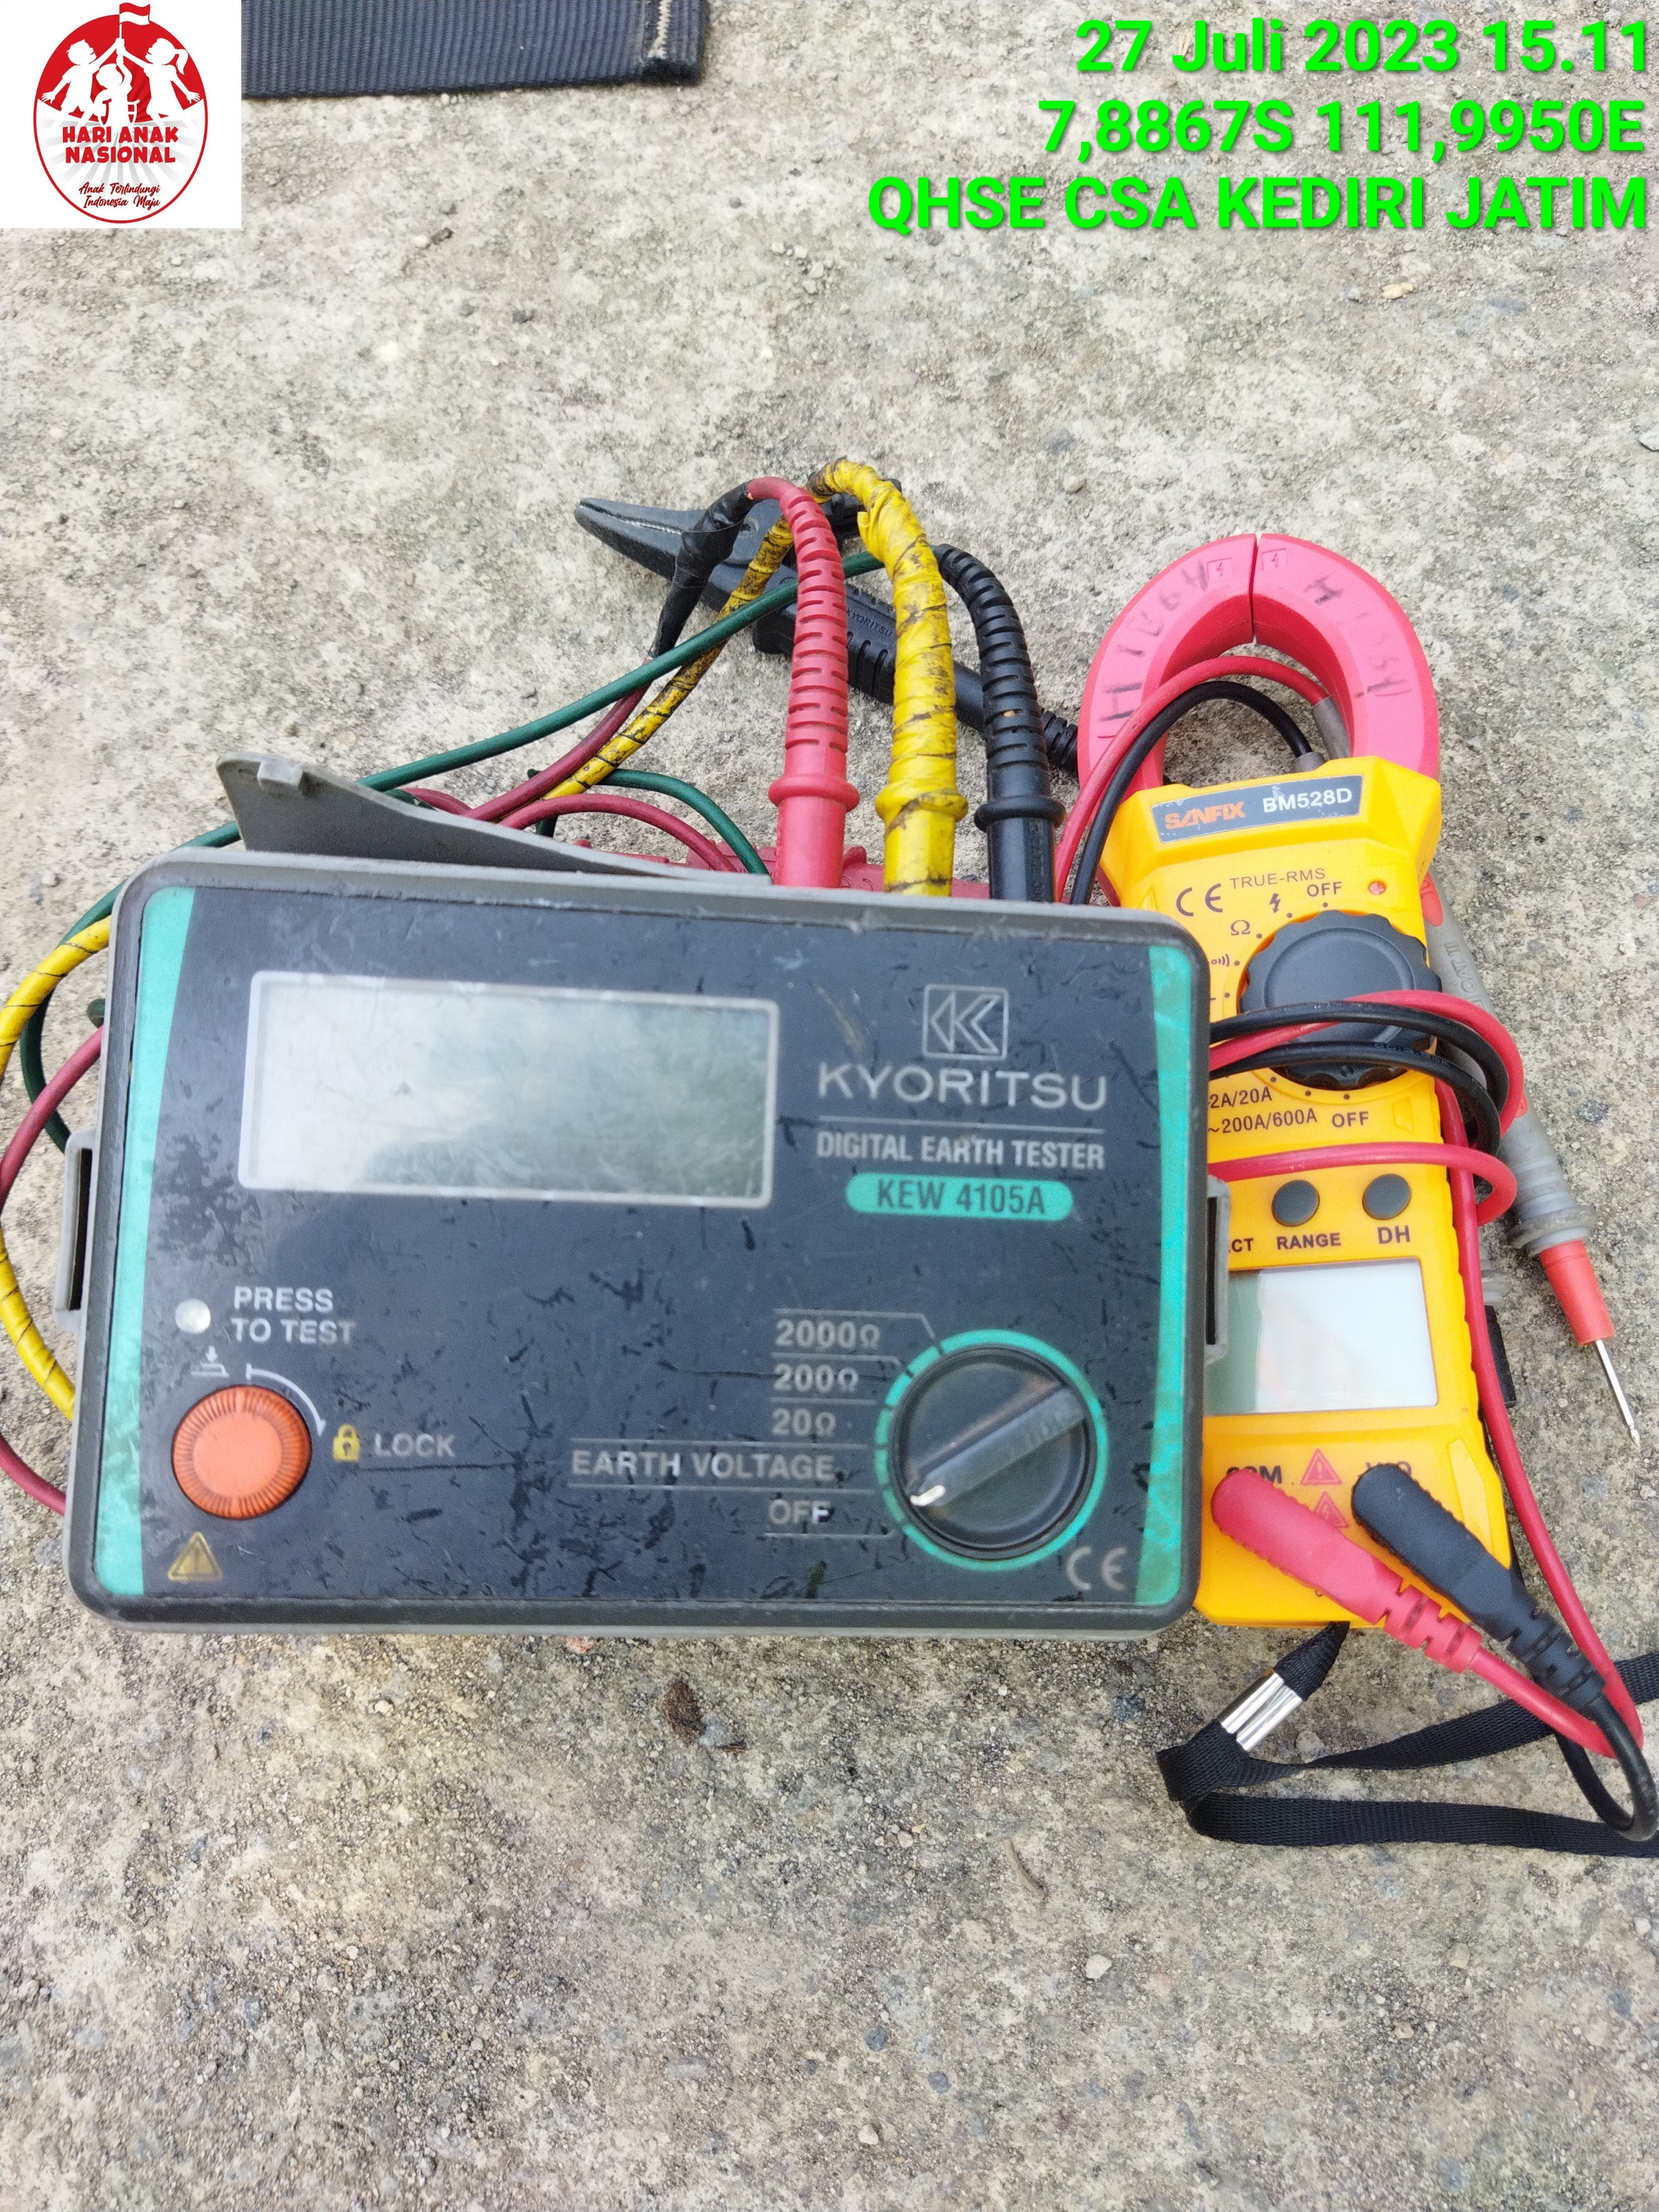EARTH_GROUNDING_TESTER: (70, 747, 1215, 1649)
